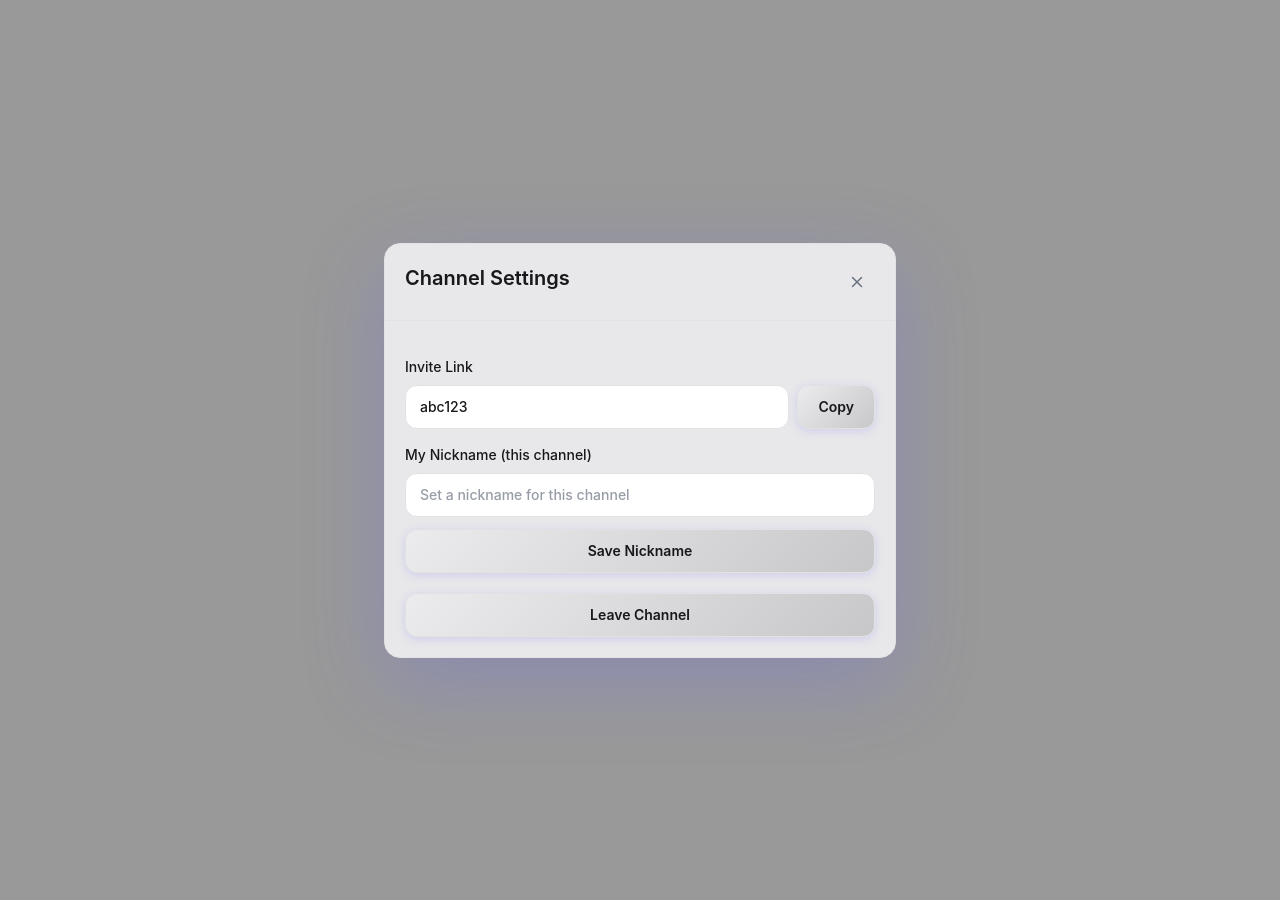
Scenario: ChannelSettingsModal › saves the current user's own nickname for the channel
Type "Sprint Master" into the field labelled "My Nickname (this channel)" at (640, 494), box [405,472,875,516]
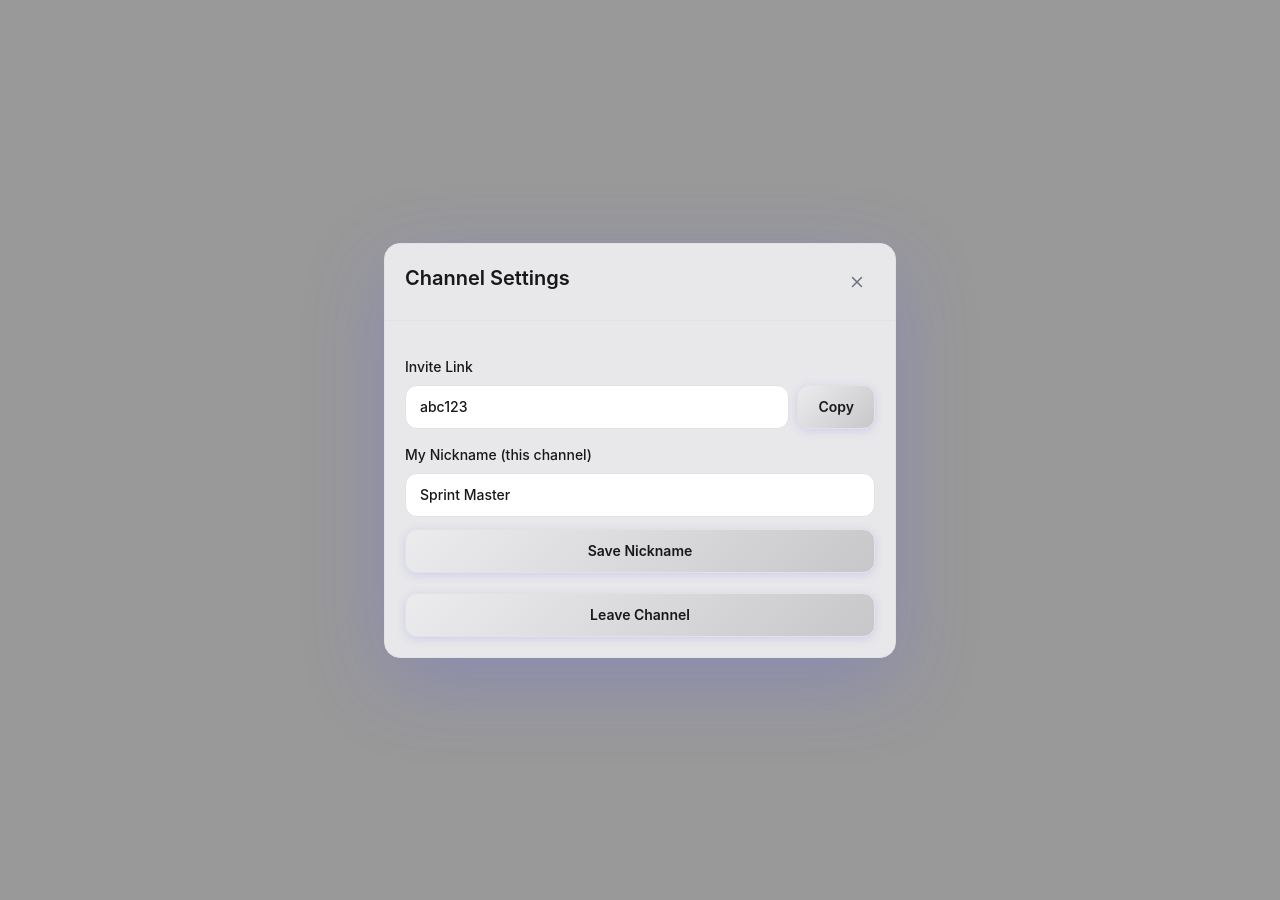
Click the button "Save Nickname" at (640, 550), box [405,528,875,572]
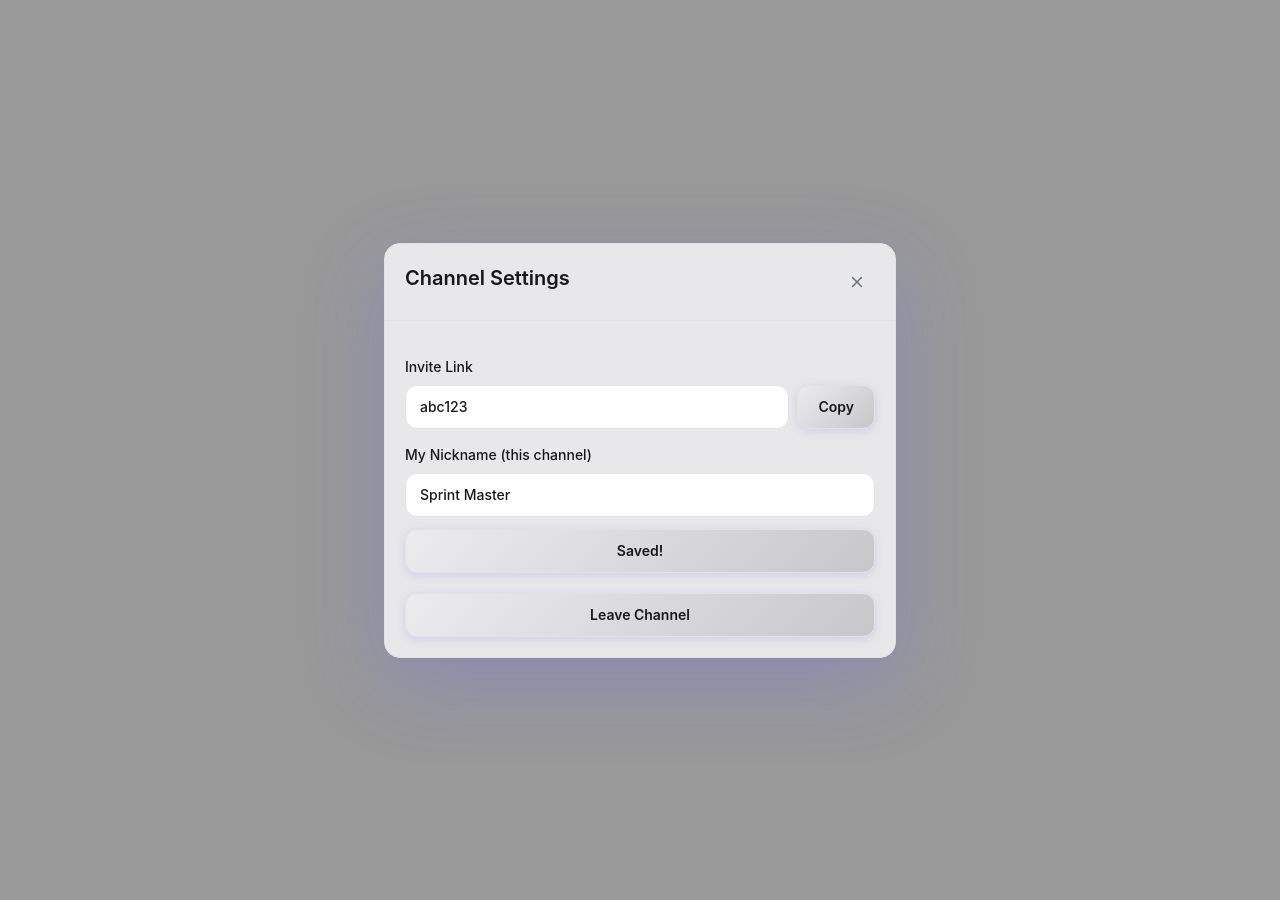
Check: the button "Saved!" is shown, box [405,528,875,572]
